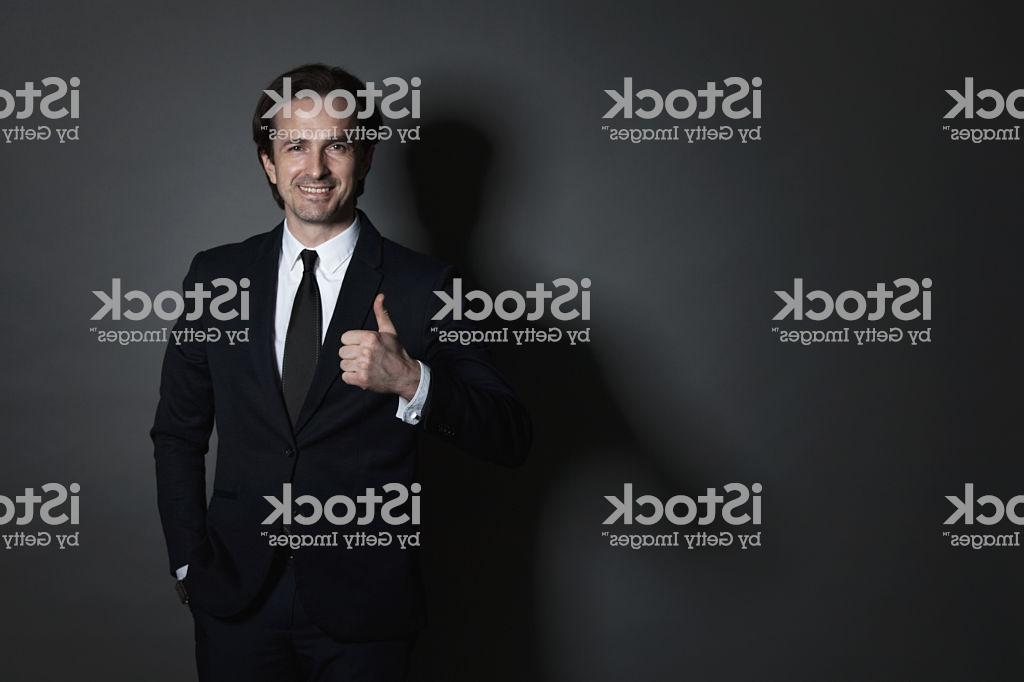thumbsup: (337, 292, 400, 393)
